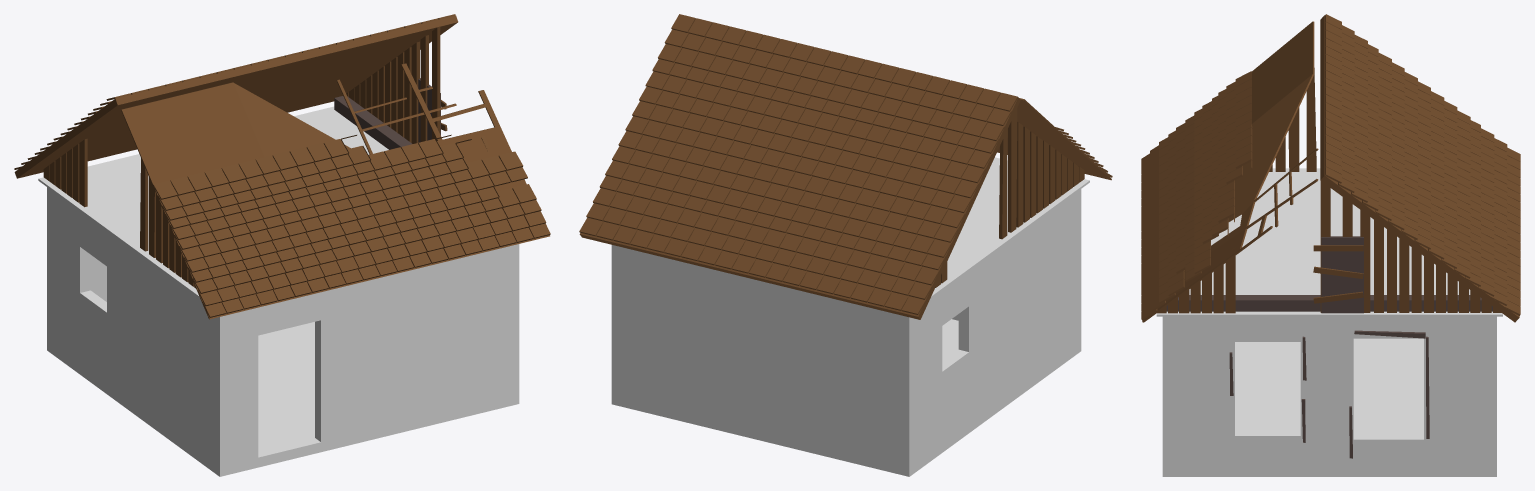
File: broken_house.fbx
3 views of the same model, side by side, from view 1: azimuth 30°, elevation 25°; view 2: azimuth 150°, elevation 25°; view 3: azimuth 270°, elevation 25° (orthographic). The views are drawn at different scales.
Visible parts, largest first — view 1: Cube.055, Cube.085, Cube.064, Cube.063, Cube.127, Cube.131, Cube.126, Cube.128, Cube.132, Cube.129, Cube.130, Cube.133 (+13 smaller); view 2: Cube.055, Cube.125, Cube.119, Cube.115, Cube.117, Cube.121, Cube.123, Cube.113, Cube.104, Cube.118, Cube.116, Cube.124 (+12 smaller); view 3: Cube.055, Cube.063, Cube.085, Cube.064, Cube.125, Cube.087, Cube.123, Cube.115, Cube.117, Cube.119, Cube.121, Cube.116 (+34 smaller).
Part boxes in pixels (x1,y1,x2,y2): Cube.055: (47, 187, 519, 476); Cube.085: (121, 63, 549, 319); Cube.064: (14, 15, 458, 178); Cube.063: (38, 106, 388, 299); Cube.127: (198, 211, 546, 306); Cube.131: (179, 167, 527, 261); Cube.126: (202, 223, 550, 317); Cube.128: (193, 200, 541, 293); Cube.132: (174, 151, 523, 249); Cube.129: (188, 184, 536, 282); Cube.130: (184, 186, 499, 272); Cube.133: (170, 158, 468, 239); Cube.055: (611, 189, 1081, 476); Cube.125: (671, 14, 1017, 111); Cube.119: (632, 101, 978, 198); Cube.115: (605, 160, 951, 257); Cube.117: (618, 131, 964, 228); Cube.121: (645, 71, 992, 168); Cube.123: (658, 44, 1004, 141); Cube.113: (593, 188, 938, 285); Cube.104: (579, 217, 925, 314); Cube.118: (625, 116, 971, 212); Cube.116: (612, 146, 958, 242); Cube.124: (664, 29, 1011, 125); Cube.055: (1162, 316, 1496, 476); Cube.063: (1156, 168, 1502, 316); Cube.085: (1142, 21, 1318, 322); Cube.064: (1320, 15, 1519, 322); Cube.125: (1325, 14, 1341, 183); Cube.087: (1321, 236, 1363, 313); Cube.123: (1351, 35, 1367, 202); Cube.115: (1454, 110, 1470, 278); Cube.117: (1428, 91, 1444, 259); Cube.119: (1401, 72, 1417, 239); Cube.121: (1375, 53, 1391, 220); Cube.116: (1441, 101, 1457, 268).
Bounding box in the file's own units: 487 × 441 × 486.
